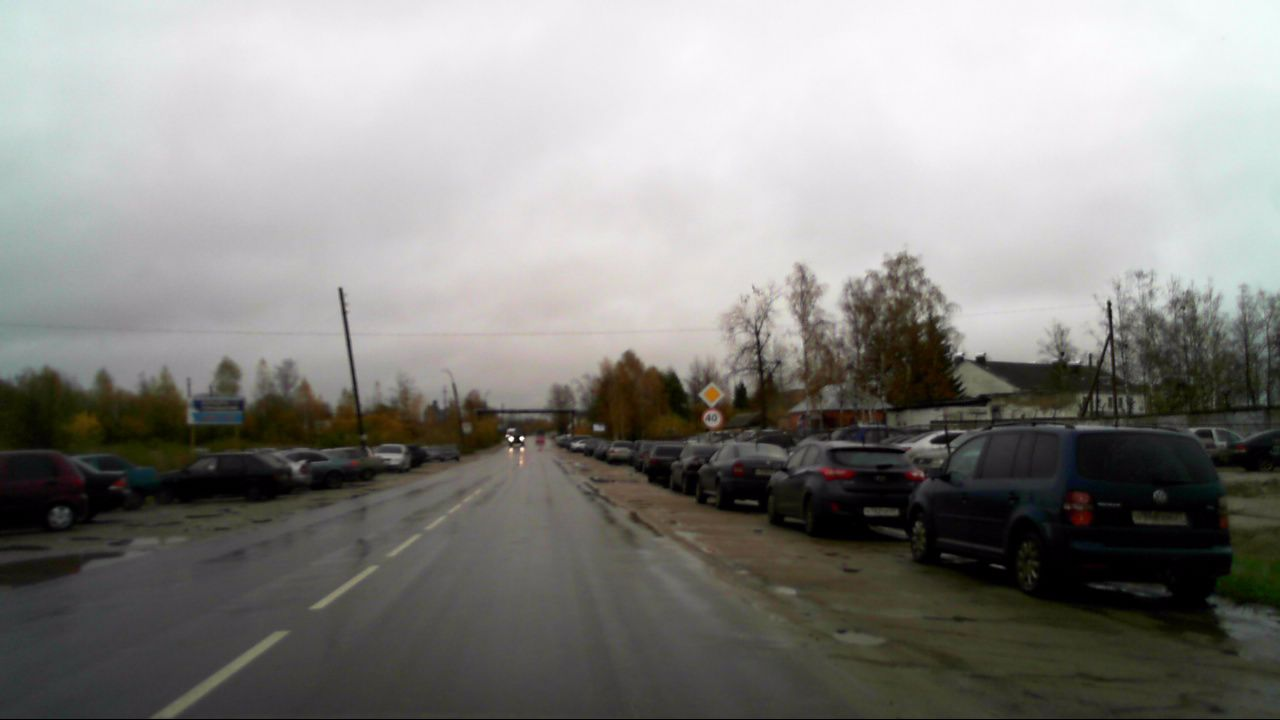speed_warning_40: (701, 407, 725, 430)
